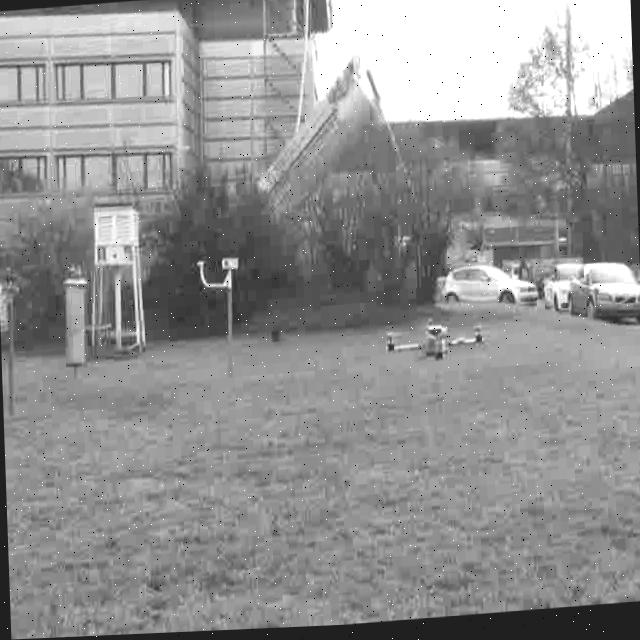drone: (382, 317, 486, 370)
